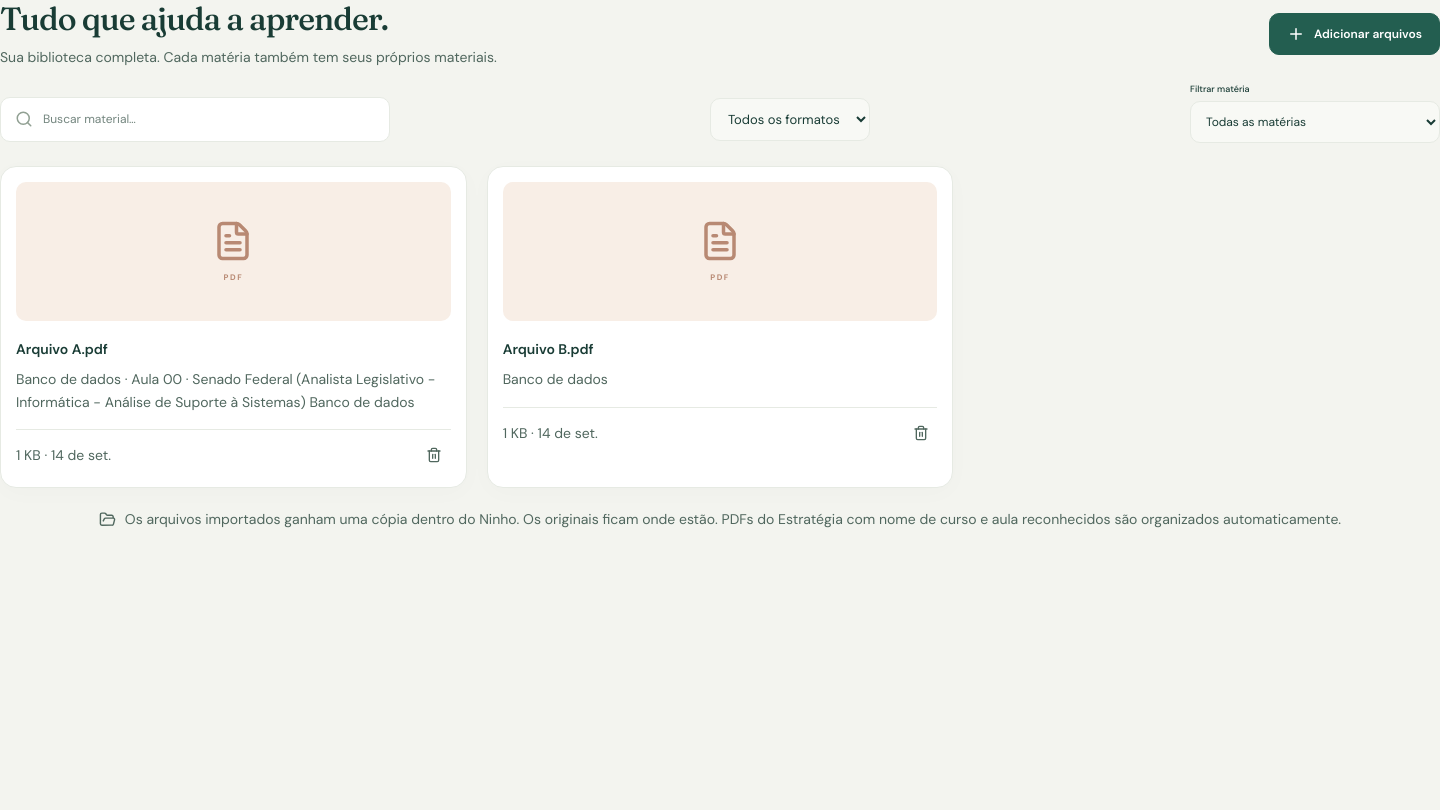
Test: prévia PDF com endereço local curto › mostra erro para PDF sem conteúdo e mantém a abertura pelo Windows disponível
Click the button with aria-label "Abrir Arquivo A.pdf": point(233, 251) top-left (16, 182), bottom-right (451, 321)
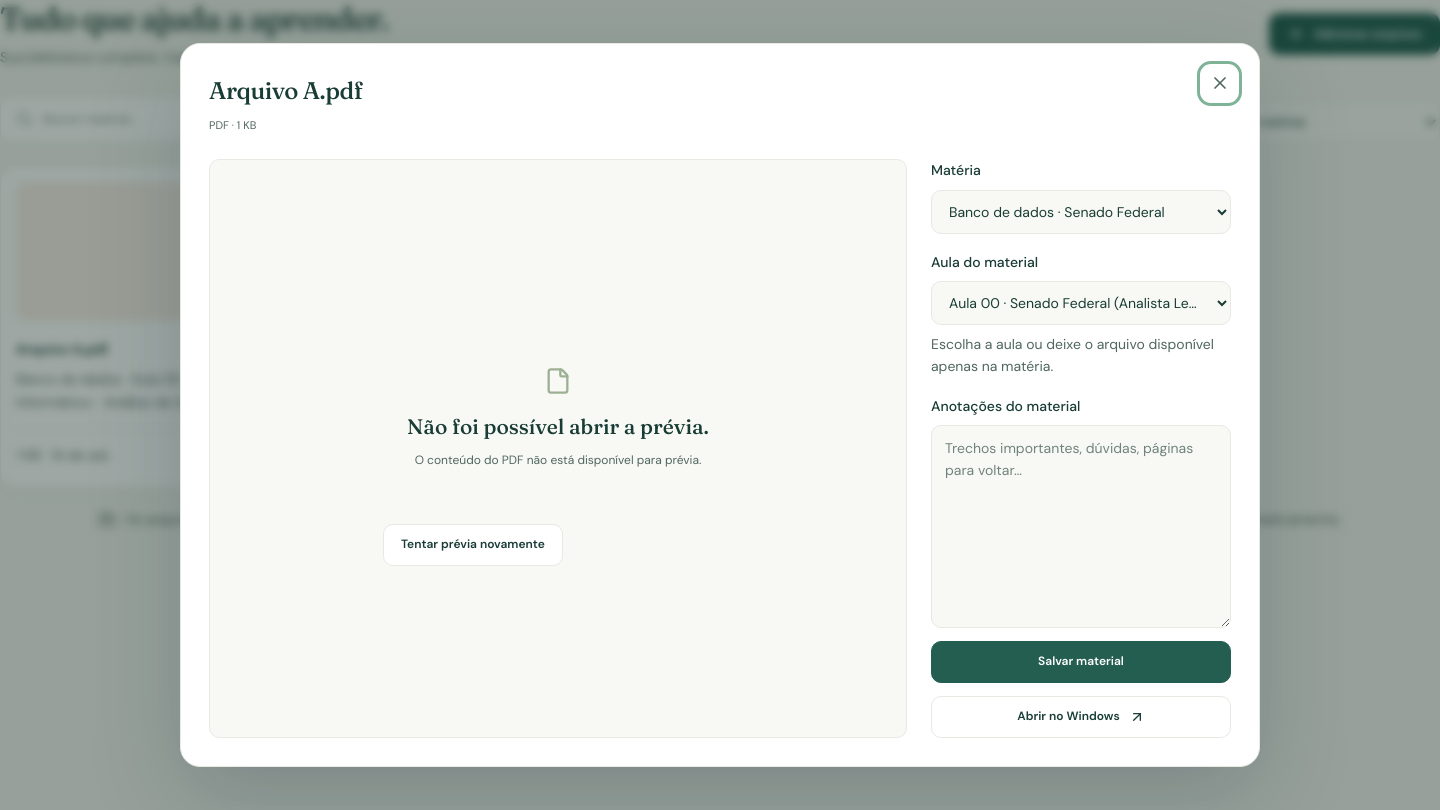
Check: the message shows "O conteúdo do PDF não está disponível para prévia.", box top-left (415, 452), bottom-right (701, 468)
Check: the button "Abrir no Windows" is enabled, box top-left (931, 696), bottom-right (1231, 738)
